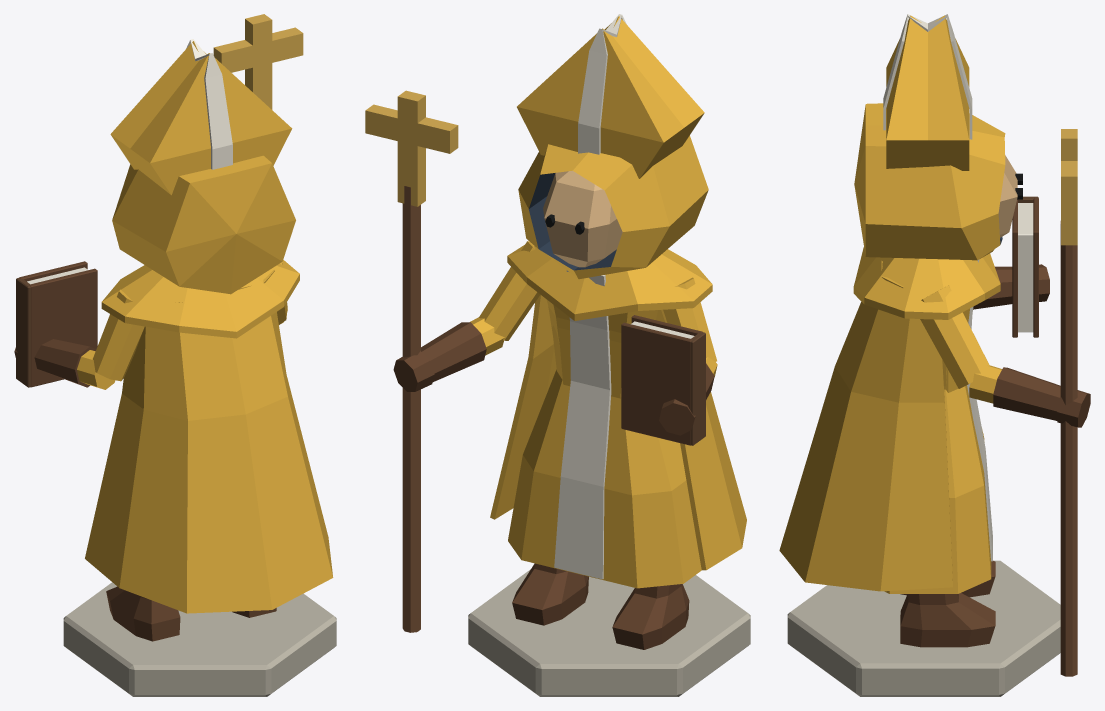
File: human_cleric_t5.glb
3 views of the same model, side by side, from view 1: azimuth 30°, elevation 25°; view 2: azimuth 150°, elevation 25°; view 3: azimuth 270°, elevation 25° (orthographic). The views are drawn at different scales.
Visible parts, largest first — view 1: Caster_Long_Back_Cape, Foundation_Hexagonal_Stone, Caster_Open_Low_Cowl, Cleric_Plain_Deep_Mitre_Two_Front_Back_Peaks, Plain_Caster_Shoulder_Mantle, Cleric_Devotional_Book_Rear_Leather_Cover, Cleric_Exactly_One_Plain_Gold_Latin_Cross, Boot_-1, Cleric_One_Connected_Front_Back_Mitre_Ribbon, left_upper_sleeve, left_bracer, Cleric_Devotional_Book_Leather_Spine (+1 smaller); view 2: Caster_Continuous_Long_Robe, Foundation_Hexagonal_Stone, Cleric_Plain_Deep_Mitre_Two_Front_Back_Peaks, Caster_Open_Low_Cowl, Cleric_One_Broad_Front_Stole, Caster_Long_Back_Cape, Plain_Caster_Shoulder_Mantle, Cleric_One_Plain_Wooden_Cross_Staff_Shaft, Cleric_Devotional_Book_Front_Leather_Cover, Angular_Face, Cleric_Exactly_One_Plain_Gold_Latin_Cross, Boot_-1 (+9 smaller); view 3: Caster_Long_Back_Cape, Foundation_Hexagonal_Stone, Caster_Open_Low_Cowl, Cleric_Plain_Deep_Mitre_Two_Front_Back_Peaks, Caster_Continuous_Long_Robe, Cleric_One_Plain_Wooden_Cross_Staff_Shaft, Plain_Caster_Shoulder_Mantle, Boot_1, right_upper_sleeve, right_bracer, Cleric_Devotional_Book_One_Plain_Page_Block, Cleric_Exactly_One_Plain_Gold_Latin_Cross (+8 smaller).
Part boxes in pixels (left/top/right/bottom): Caster_Long_Back_Cape: left=85, top=312, right=333, bottom=613; Foundation_Hexagonal_Stone: left=63, top=582, right=336, bottom=696; Caster_Open_Low_Cowl: left=112, top=155, right=295, bottom=294; Cleric_Plain_Deep_Mitre_Two_Front_Back_Peaks: left=110, top=41, right=292, bottom=195; Plain_Caster_Shoulder_Mantle: left=101, top=260, right=299, bottom=338; Cleric_Devotional_Book_Rear_Leather_Cover: left=29, top=268, right=97, bottom=387; Cleric_Exactly_One_Plain_Gold_Latin_Cross: left=213, top=14, right=303, bottom=109; Boot_-1: left=106, top=586, right=180, bottom=641; Cleric_One_Connected_Front_Back_Mitre_Ribbon: left=186, top=39, right=232, bottom=169; left_upper_sleeve: left=92, top=289, right=144, bottom=381; left_bracer: left=34, top=339, right=96, bottom=387; Cleric_Devotional_Book_Leather_Spine: left=16, top=278, right=30, bottom=387; Caster_Continuous_Long_Robe: left=508, top=254, right=701, bottom=588; Foundation_Hexagonal_Stone: left=468, top=569, right=750, bottom=696; Cleric_Plain_Deep_Mitre_Two_Front_Back_Peaks: left=517, top=16, right=704, bottom=178; Caster_Open_Low_Cowl: left=518, top=135, right=708, bottom=279; Cleric_One_Broad_Front_Stole: left=554, top=270, right=611, bottom=579; Caster_Long_Back_Cape: left=490, top=294, right=746, bottom=570; Plain_Caster_Shoulder_Mantle: left=507, top=245, right=712, bottom=320; Cleric_One_Plain_Wooden_Cross_Staff_Shaft: left=402, top=186, right=420, bottom=632; Cleric_Devotional_Book_Front_Leather_Cover: left=621, top=322, right=692, bottom=445; Angular_Face: left=543, top=170, right=622, bottom=267; Cleric_Exactly_One_Plain_Gold_Latin_Cross: left=365, top=90, right=458, bottom=206; Boot_-1: left=612, top=584, right=689, bottom=649; Caster_Long_Back_Cape: left=779, top=302, right=952, bottom=591; Foundation_Hexagonal_Stone: left=787, top=560, right=1060, bottom=696; Caster_Open_Low_Cowl: left=854, top=103, right=1005, bottom=260; Cleric_Plain_Deep_Mitre_Two_Front_Back_Peaks: left=886, top=15, right=969, bottom=170; Caster_Continuous_Long_Robe: left=881, top=261, right=991, bottom=593; Cleric_One_Plain_Wooden_Cross_Staff_Shaft: left=1060, top=221, right=1077, bottom=676; Plain_Caster_Shoulder_Mantle: left=853, top=247, right=1000, bottom=319; Boot_1: left=900, top=593, right=995, bottom=647; right_upper_sleeve: left=920, top=285, right=989, bottom=388; right_bracer: left=993, top=367, right=1060, bottom=420; Cleric_Devotional_Book_One_Plain_Page_Block: left=1018, top=203, right=1033, bottom=332; Cleric_Exactly_One_Plain_Gold_Latin_Cross: left=1061, top=129, right=1077, bottom=245.
Bounding box in the file's own units: 1.18 × 2.26 × 1.01.
